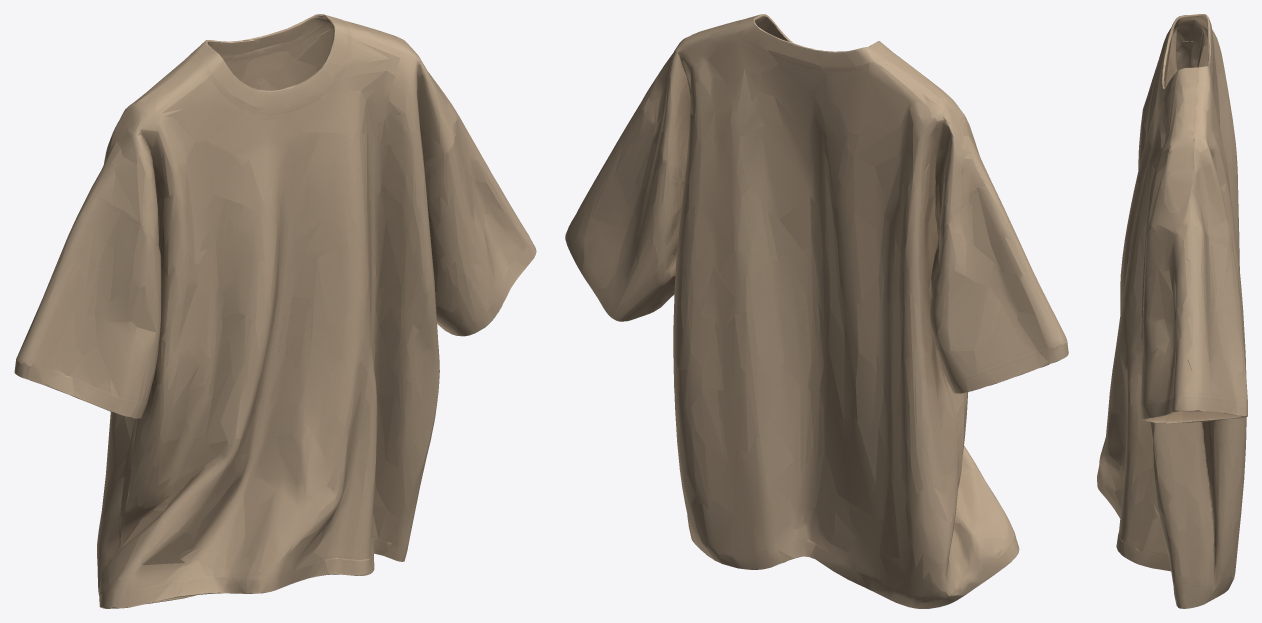
The model's file is shirt.glb.
3 renders of one model, left to right at view 1: azimuth 30°, elevation 25°; view 2: azimuth 150°, elevation 25°; view 3: azimuth 270°, elevation 25°, orthographic. The views are drawn at different scales.
Bounding box in the file's own units: 1.84 × 1.9 × 0.5059.
1 material, 1 textured.
